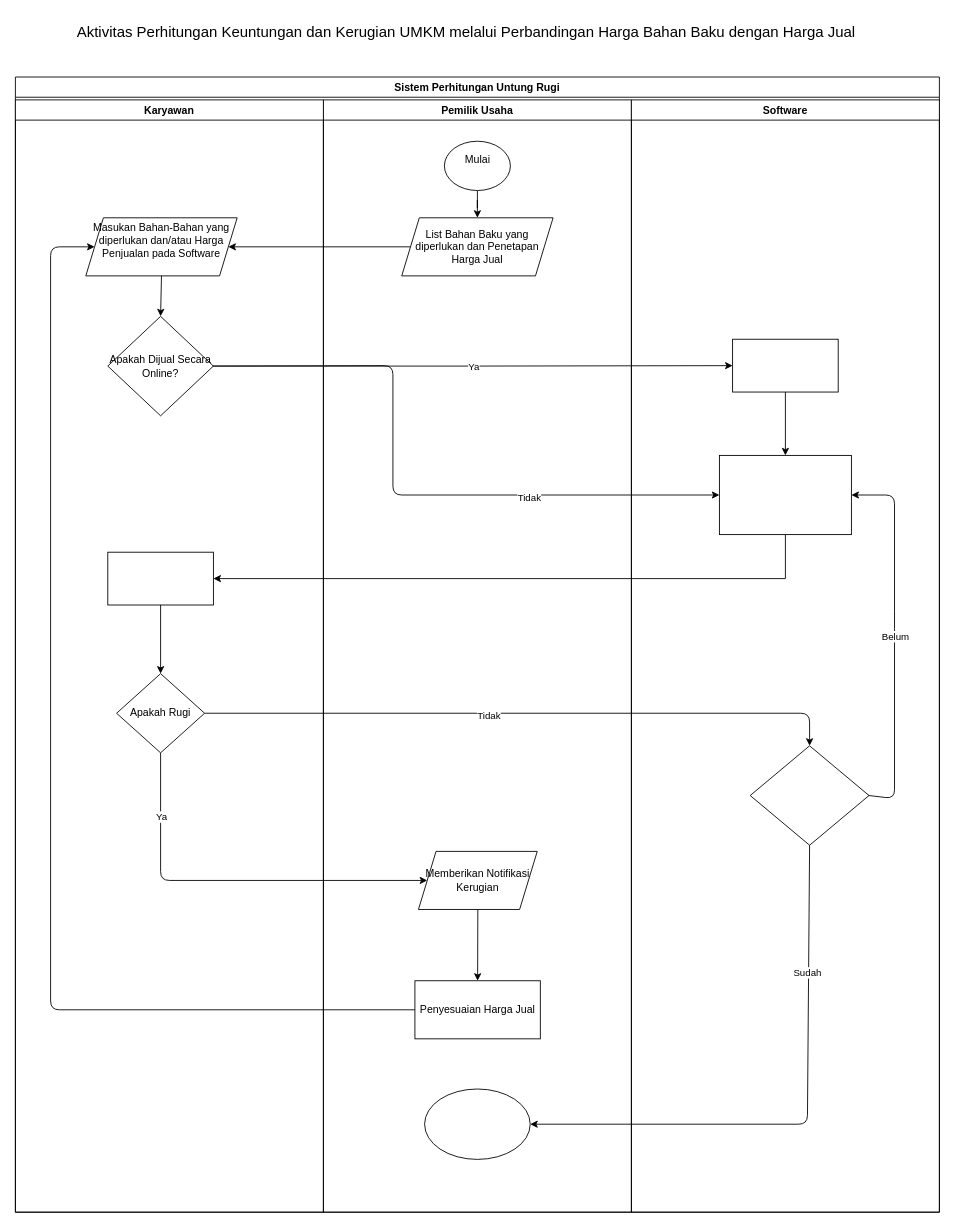
The diagram is 955 pixels wide and 1228 high, and some of its shapes have lost their labels. The shapes that lost their labels are listed below. From the top down, each one's centre as x and y in pixels, then its label:
pixel 785 365: Hitung Potongan Komisi Platform
pixel 785 495: Membandingkan Harga Bahan Baku Standar per Hari dengan Harga Penjualan
pixel 160 578: Pengecekan Untung atau Rugi
pixel 809 795: Apakah Pengecekan Hari ini Sudah Selesai?
pixel 477 1123: Selesai
